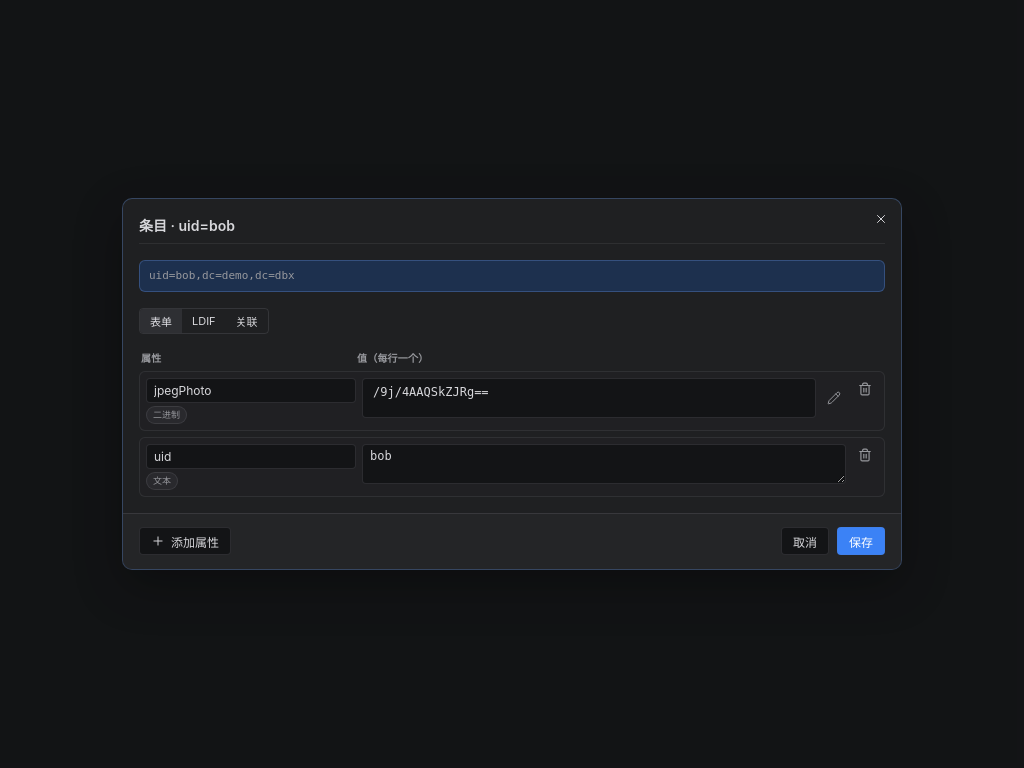
Scenario: EntryEditorDialog › routes binary attributes to the dialog viewer/uploader (M6 N3)
Click the button named "编辑值": [834, 398] box left=822, top=385, right=846, bottom=411
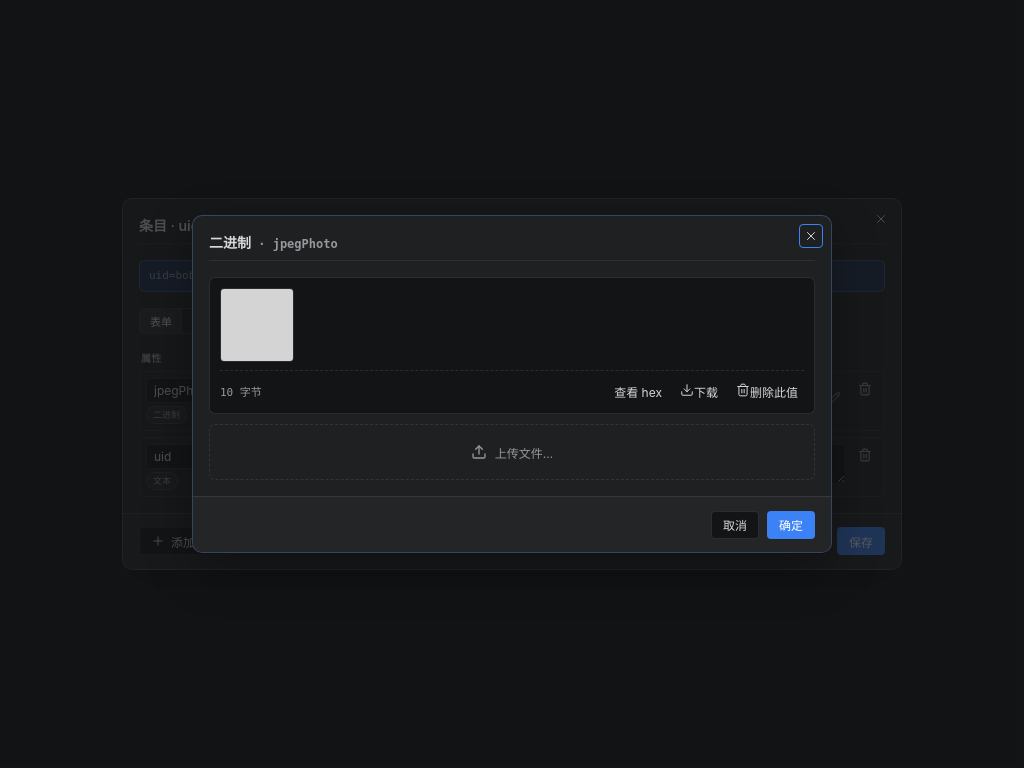
Expected: the element with class "binary-editor" is shown, left=209, top=277, right=815, bottom=480
